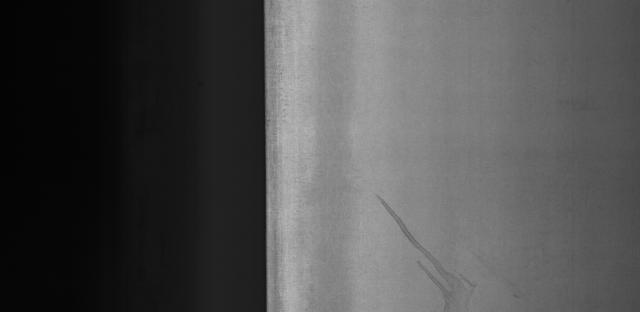water_spot: (368, 181, 492, 312)
